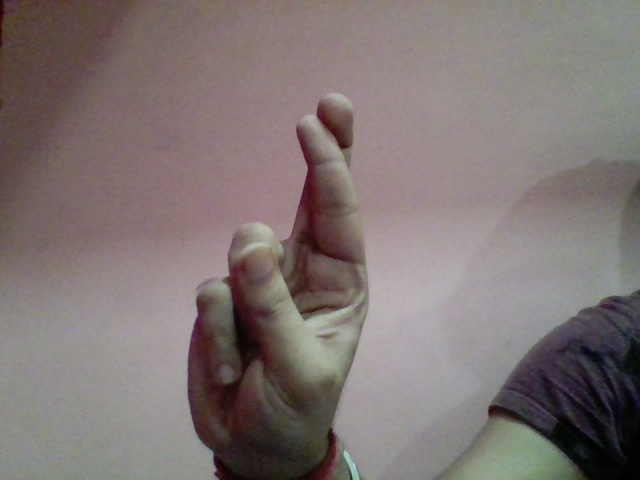r: (173, 89, 380, 471)
